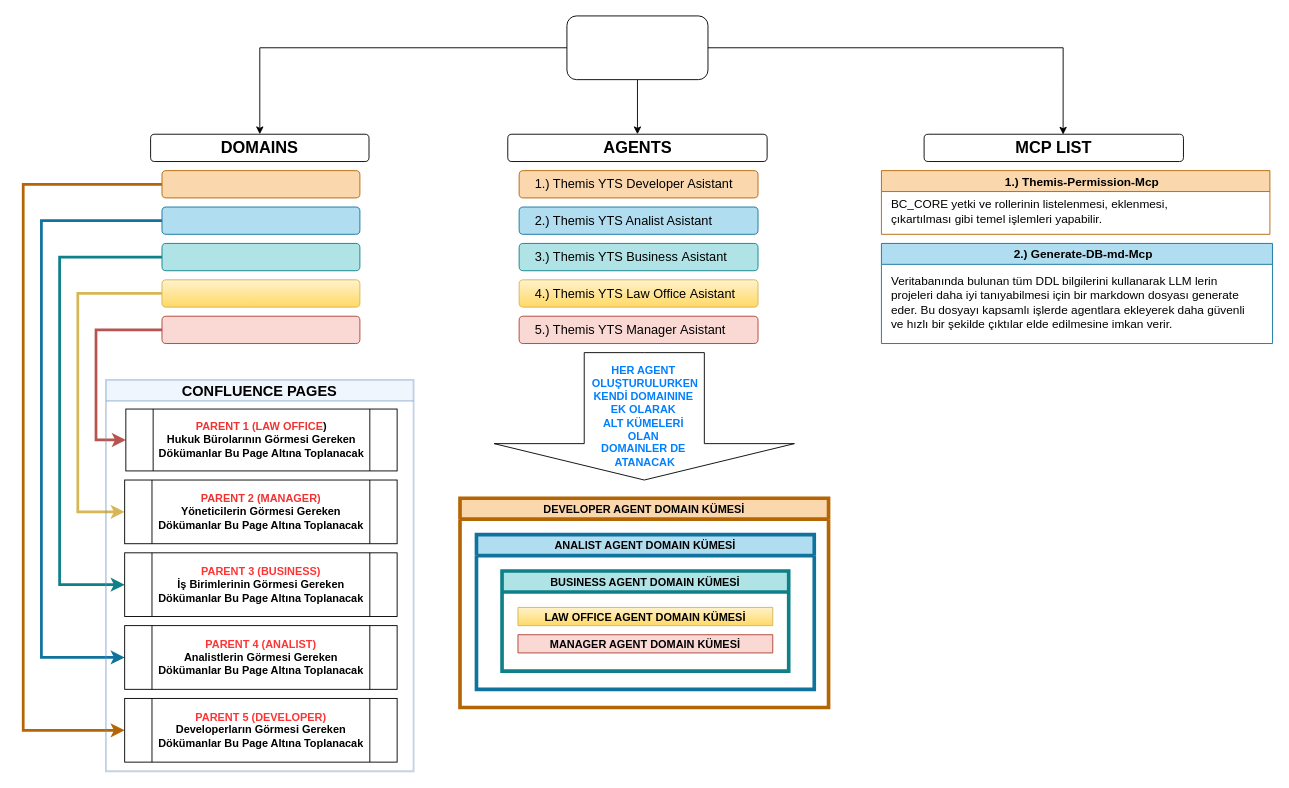
Some shapes in this 1289 by 788 pixel diagram are drawn without their labels. Each missing label, with the centre of its shape:
1.) Themis YTS Developer: point (260, 184)
2.) Themis YTS Analist: point (260, 220)
3.) Themis YTS Business: point (260, 257)
4.) Themis YTS Law Office: point (260, 293)
5.) Themis YTS Manager: point (260, 329)
TEKNOCAN: point (637, 47)
